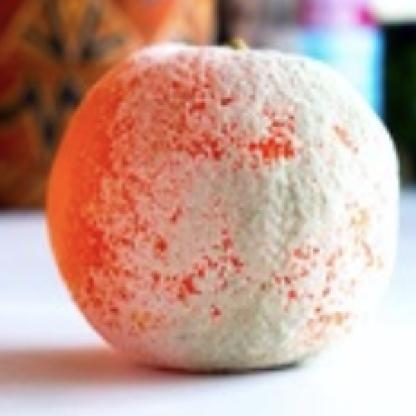rotten: (46, 42, 402, 373)
